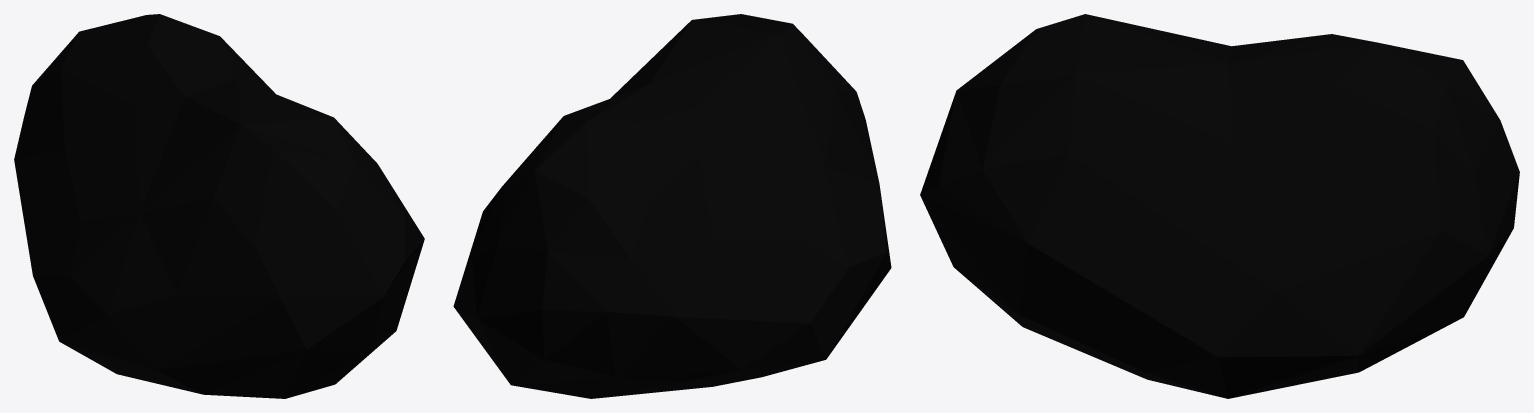
File: Gold Ore 01.fbx
3 renders of one model, left to right at view 1: azimuth 30°, elevation 25°; view 2: azimuth 150°, elevation 25°; view 3: azimuth 270°, elevation 25°, orthographic. The views are drawn at different scales.
Parts seen in each view (by area): view 1: Gold Ore 01; view 2: Gold Ore 01; view 3: Gold Ore 01.
Part boxes in pixels (x1,y1,x2,y2): Gold Ore 01: (14, 14, 424, 398); Gold Ore 01: (453, 14, 891, 398); Gold Ore 01: (920, 14, 1519, 398).
Size of the model in its own units: 33.44 by 26.22 by 46.52.
